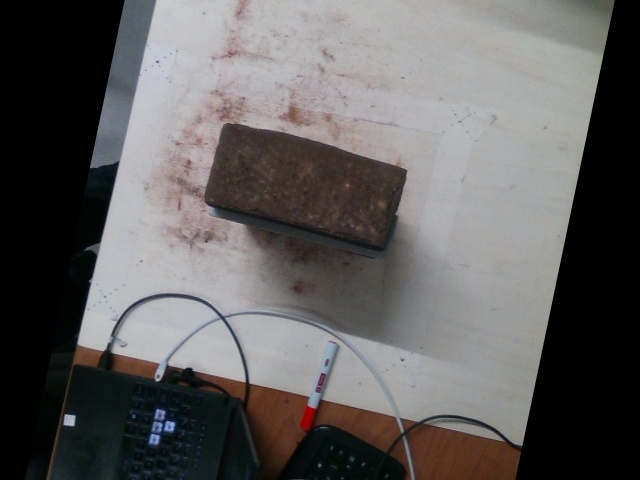brick: (205, 125, 406, 240)
